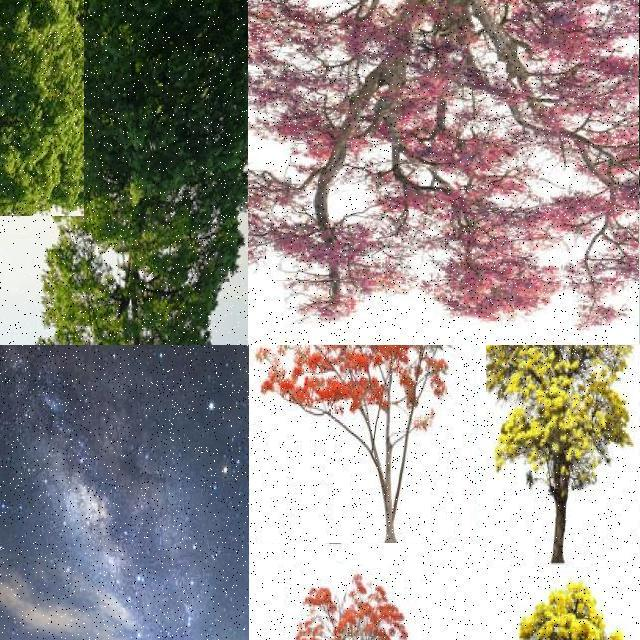tree: (248, 0, 640, 344), (0, 0, 248, 344), (249, 345, 477, 543), (486, 345, 640, 567), (0, 0, 84, 216), (474, 563, 640, 640), (278, 564, 422, 640)
